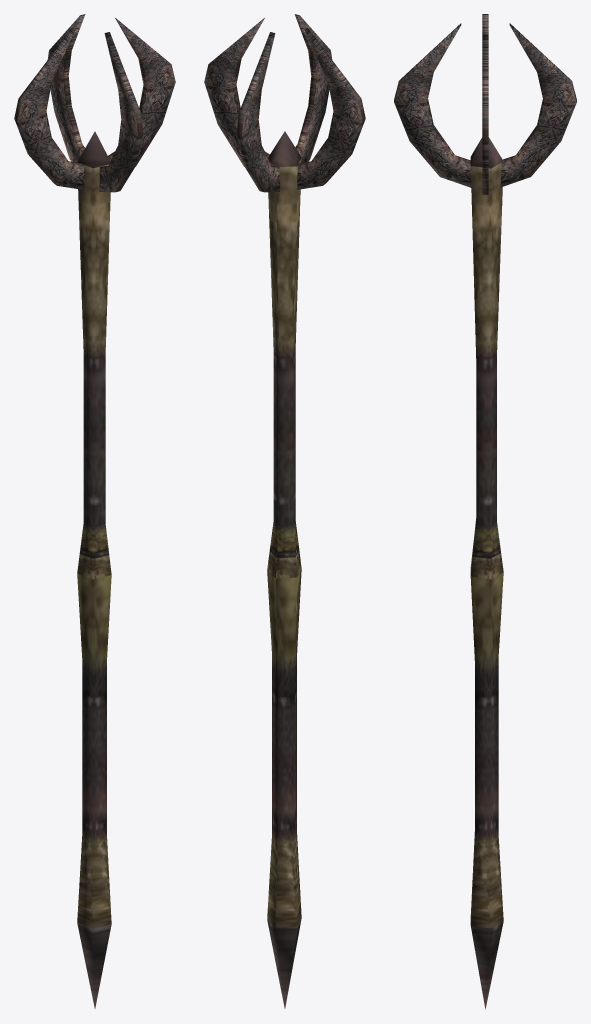
Rendered from OW_MAGICSTAFF_01.glb.
The picture shows the model from 3 angles, left to right: view 1: azimuth 30°, elevation 25°; view 2: azimuth 150°, elevation 25°; view 3: azimuth 270°, elevation 25°; orthographic projection.
Visible parts, largest first — view 1: Mesh; view 2: Mesh; view 3: Mesh.
Part boxes in pixels (x1,y1,x2,y2): Mesh: (14,14,175,1008); Mesh: (204,14,365,1008); Mesh: (394,14,576,1009).
Bounding box in the file's own units: 0.301 × 1.79 × 0.301.
Materials: 1 (1 with a texture image).
